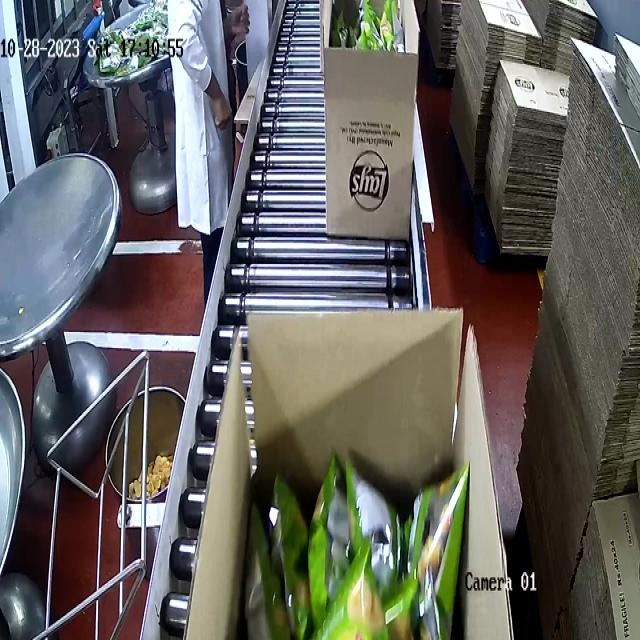YOGURT_HERB: (252, 460, 468, 640), (330, 5, 412, 48)
